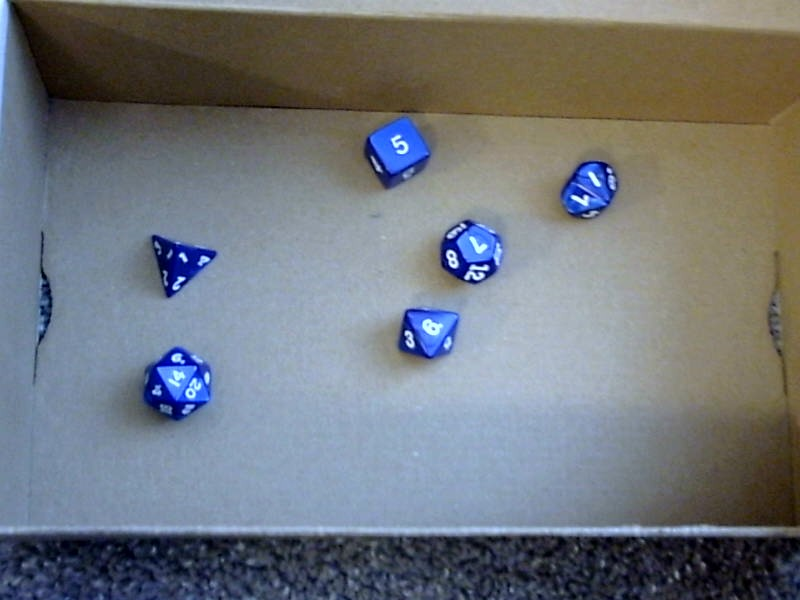d10 1: (554, 156, 620, 222)
d12 7: (430, 215, 506, 285)
d20 14: (135, 342, 219, 425)
d4 1: (139, 229, 222, 302)
d6 5: (358, 113, 435, 188)
d8 6: (388, 301, 462, 366)
